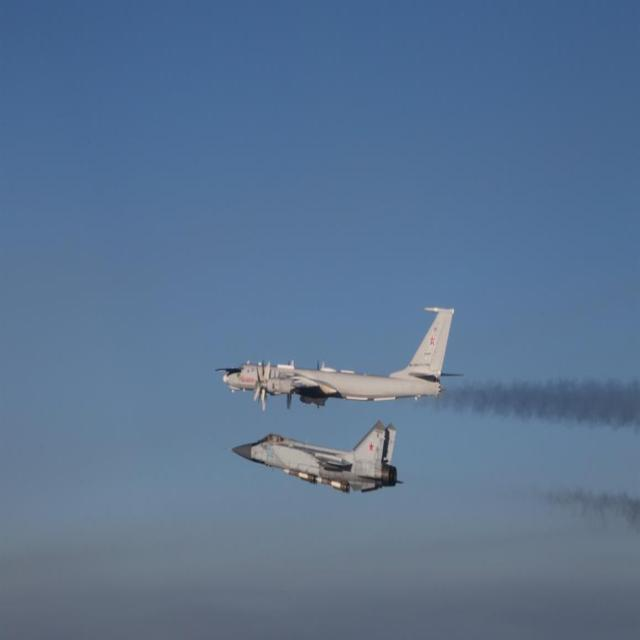MIL_Plane: (214, 306, 465, 412), (223, 418, 405, 494)
